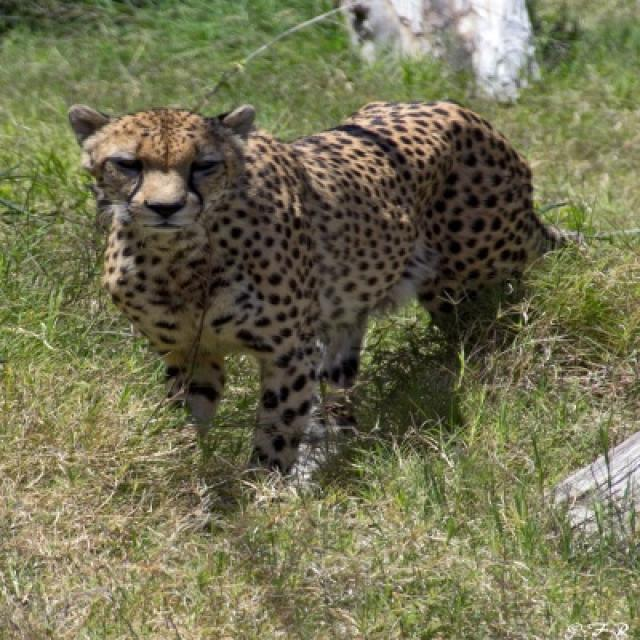Cheetah: (63, 100, 581, 499)
